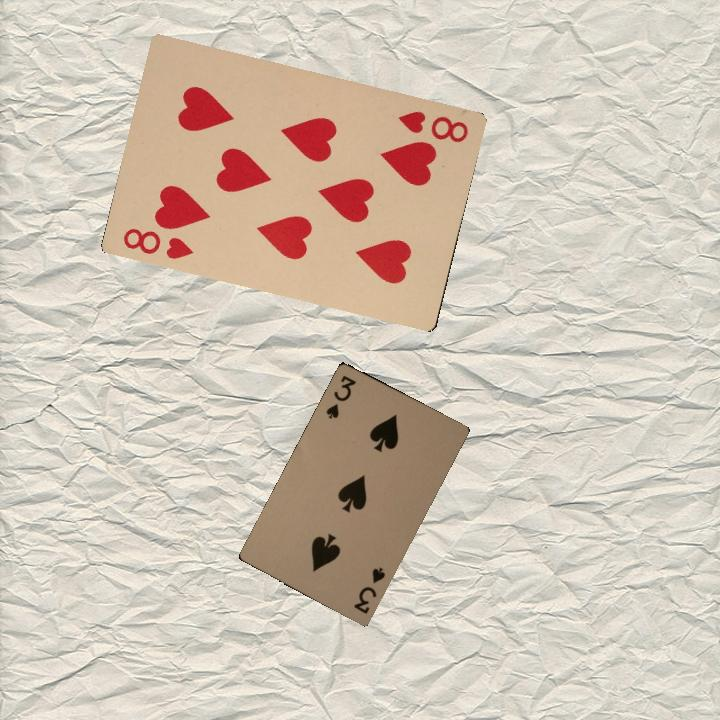3s: (350, 564, 388, 617), (322, 371, 359, 421)
8h: (394, 106, 471, 145), (119, 224, 195, 262)
